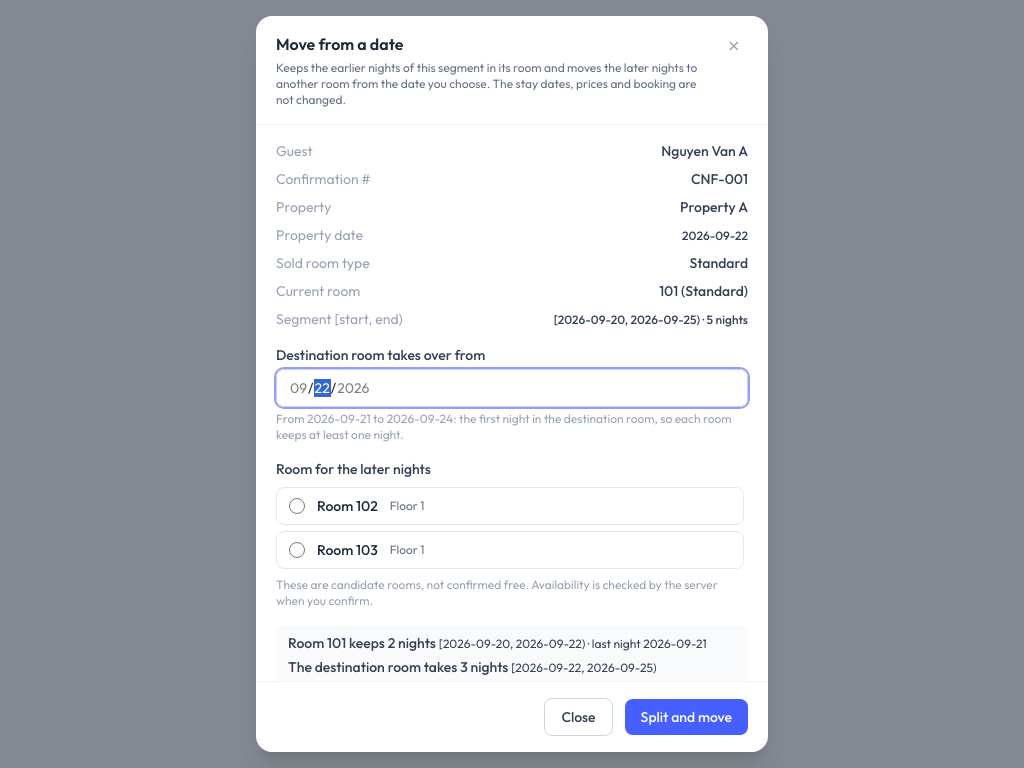
Test: ReservationSplitMoveDialog — summary, bounds and preview (PMS-CAL-002-CP04) › defaults to the Property's date when it lies strictly inside, and previews both parts as half-open ranges
expect the date field labelled "Destination room takes over from" holds "2026-09-22": met, box [276,369,748,407]
Click the radio button labelled "Room 102 Floor 1". click: (297, 506)
box: [289,498,305,514]
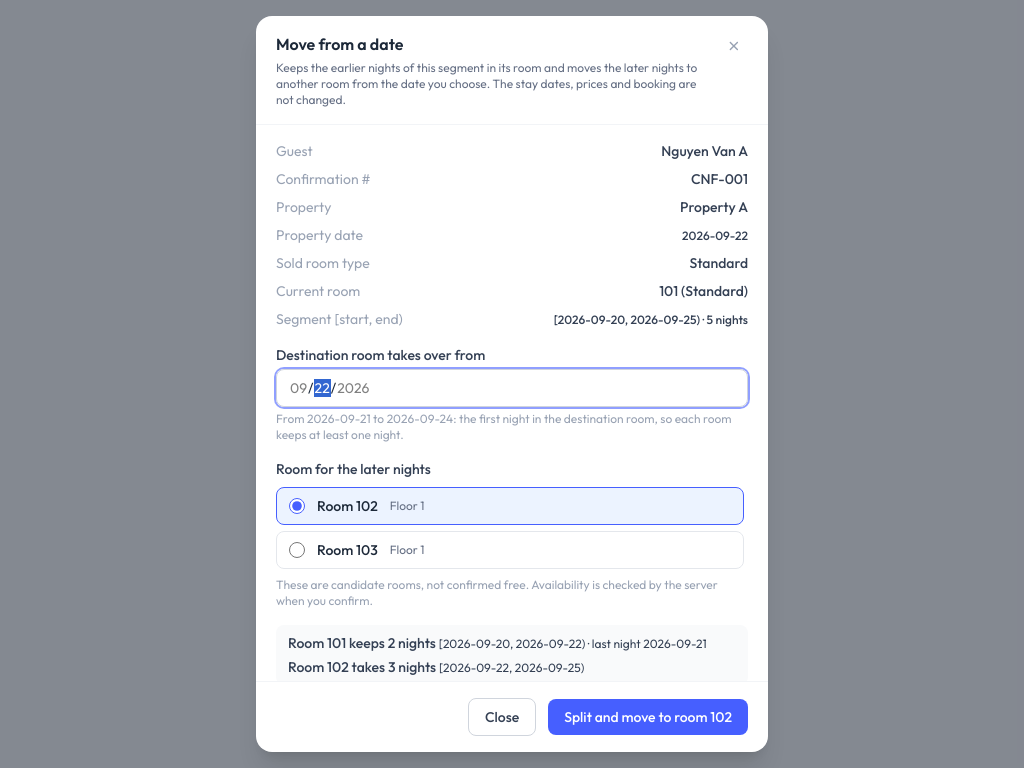
expect the element named "Split preview" shows "Room 101 keeps 2 nights": met, box [276,625,748,681]
expect the element named "Split preview" shows "Room 102 takes 3 nights": met, box [276,625,748,681]
